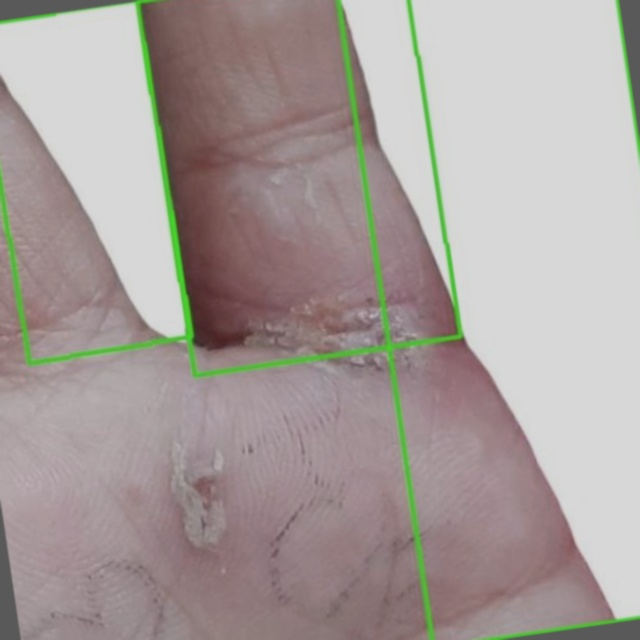Scabies: (338, 0, 639, 639), (138, 0, 460, 376), (0, 1, 192, 364)
